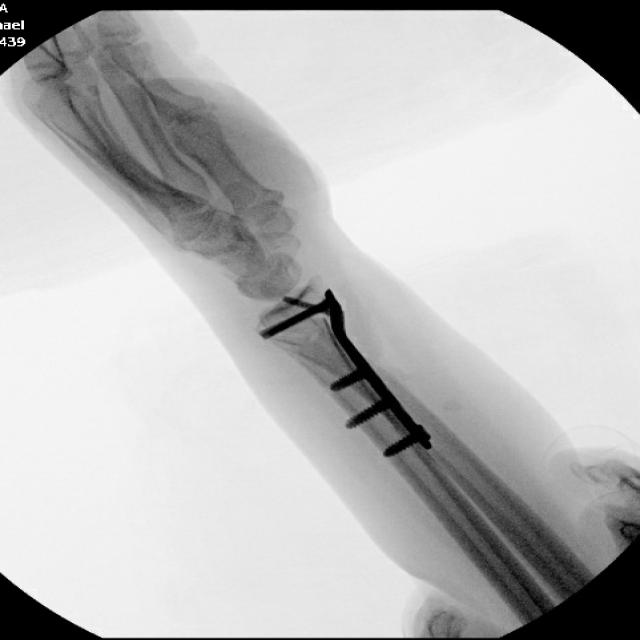x-ray: (253, 285, 442, 473)
